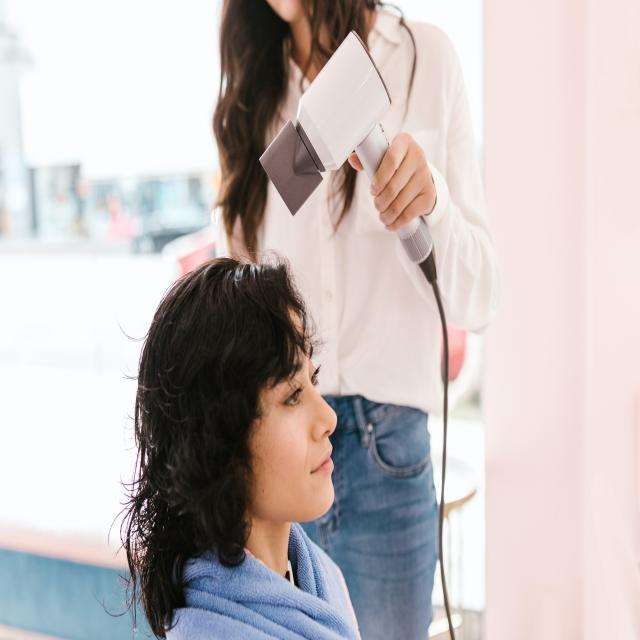dryer: (258, 27, 438, 284)
